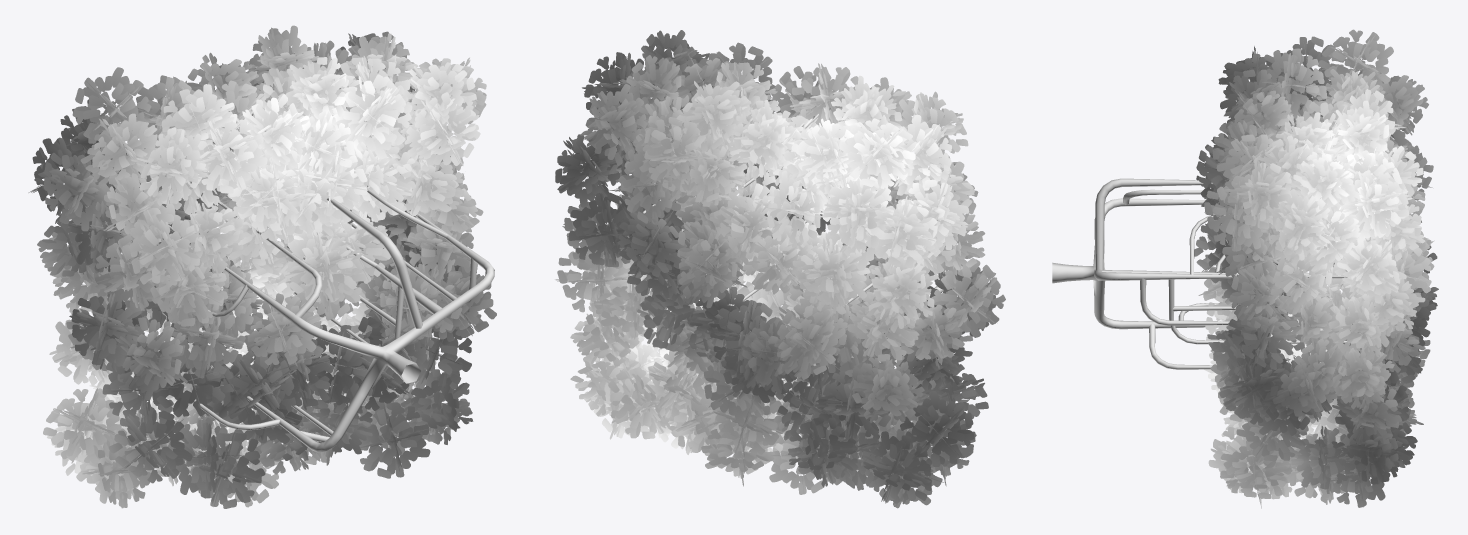
The model's file is StylisedTree6.fbx.
3 views of the same model, side by side, from view 1: azimuth 30°, elevation 25°; view 2: azimuth 150°, elevation 25°; view 3: azimuth 270°, elevation 25° (orthographic). The views are drawn at different scales.
Visible parts, largest first — view 1: Leaf3Plane.002; view 2: Leaf3Plane.002; view 3: Leaf3Plane.002.
Boxes of the visible parts, left/top/right/bottom form: Leaf3Plane.002: left=28, top=25, right=496, bottom=508; Leaf3Plane.002: left=555, top=30, right=1005, bottom=508; Leaf3Plane.002: left=1052, top=29, right=1438, bottom=508.
Bounding box in the file's own units: 756 × 728 × 651.
